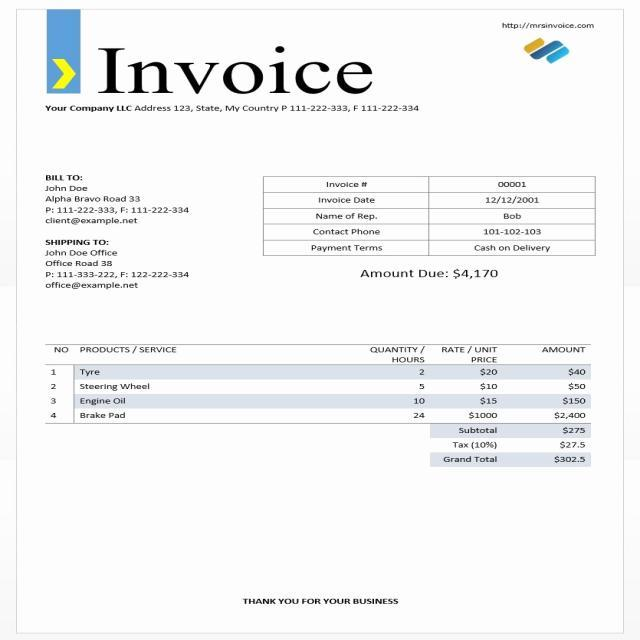ROI: (39, 343, 591, 423), (286, 176, 575, 257), (94, 41, 377, 97), (39, 234, 195, 296), (39, 168, 195, 227), (42, 100, 425, 116), (438, 426, 593, 465), (355, 261, 502, 287), (236, 593, 404, 612), (493, 14, 601, 34)
